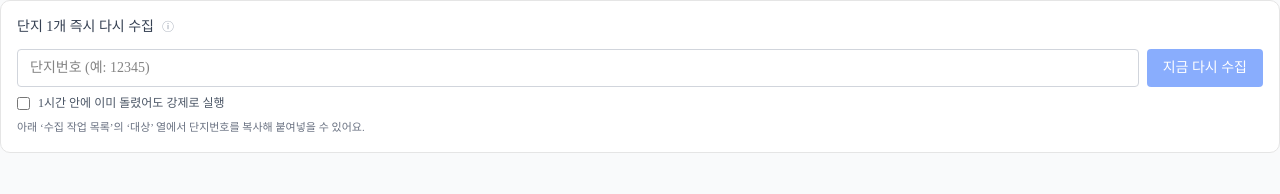
it: SingleRecrawlCard 컴포넌트 › 숫자 아닌 complex_no 입력 시 클라이언트 검증 에러
In the field with placeholder "단지번호 (예: 12345)": (578, 68) [17,49,1139,87], type "abc"
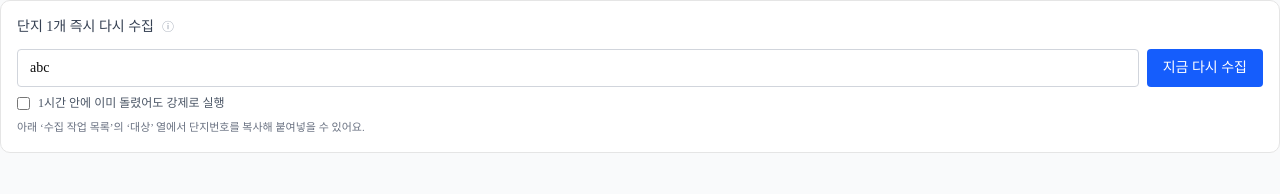
Click the button "지금 다시 수집": click(1205, 68) [1147,49,1263,87]
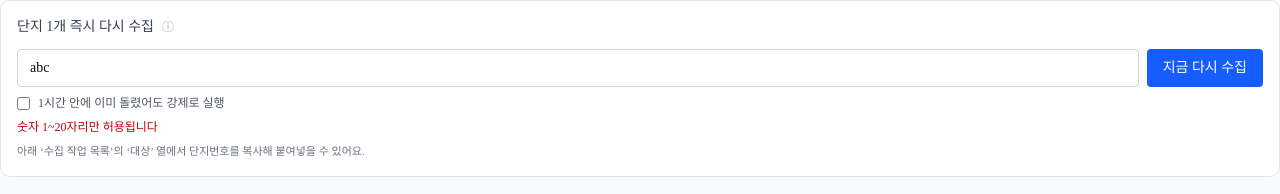
expect the text "숫자 1~20자리만 허용됩니다" is shown: met, box [17,120,158,134]
